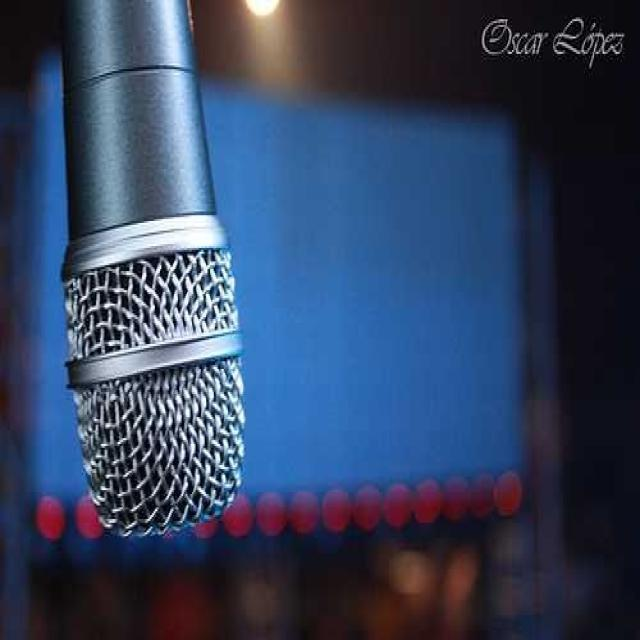microphone: (58, 8, 250, 530)
